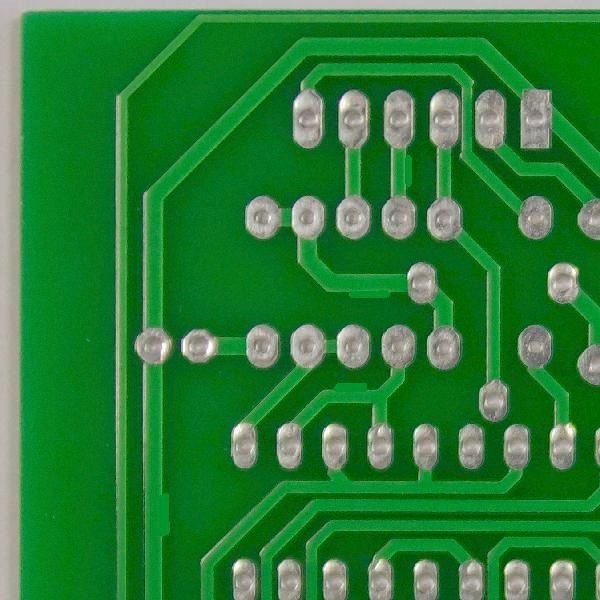spur: (343, 265, 396, 305), (146, 488, 177, 541), (323, 377, 374, 404), (386, 148, 417, 190)
